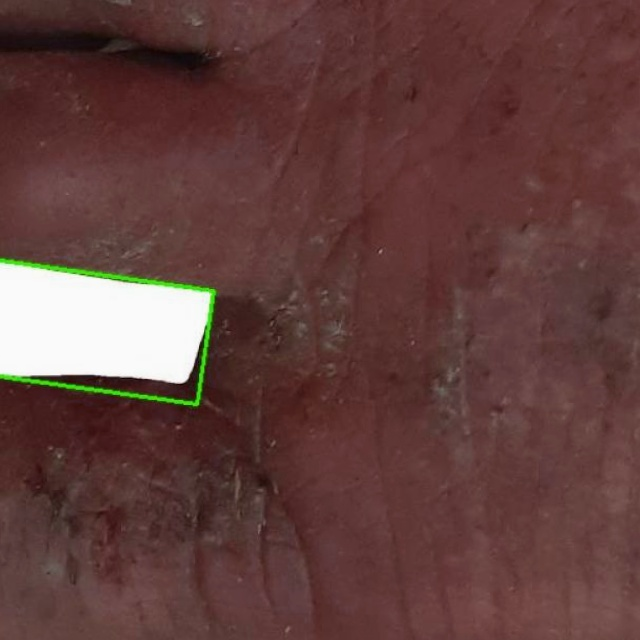Eczema: (0, 257, 215, 404)
